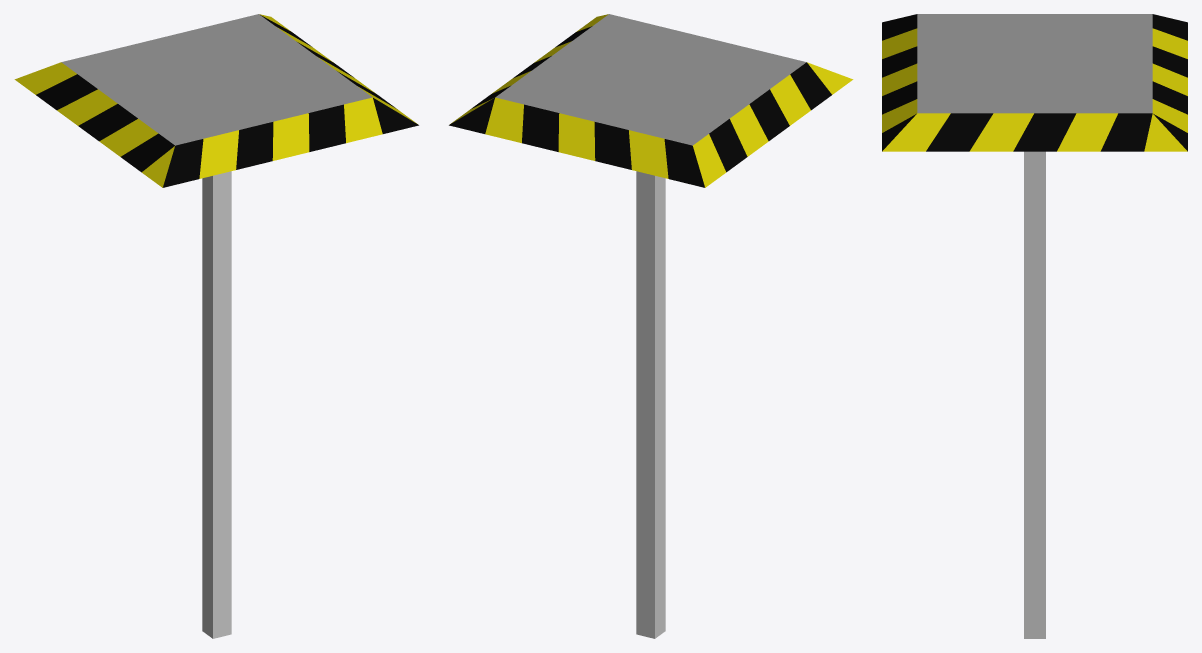
The model's file is FactoryElevator.fbx.
3 renders of one model, left to right at view 1: azimuth 30°, elevation 25°; view 2: azimuth 150°, elevation 25°; view 3: azimuth 270°, elevation 25°, orthographic. The views are drawn at different scales.
Visible parts, largest first — view 1: Cube.001, Cube; view 2: Cube.001, Cube; view 3: Cube.001, Cube.
Boxes of the visible parts, x1,y1,x2,y2 form: Cube.001: (14,14,418,187); Cube: (202,171,231,638); Cube.001: (449,14,853,187); Cube: (636,171,665,638); Cube.001: (882,14,1187,151); Cube: (1024,151,1045,638).
Size of the model in its own units: 260 by 535 by 260.
